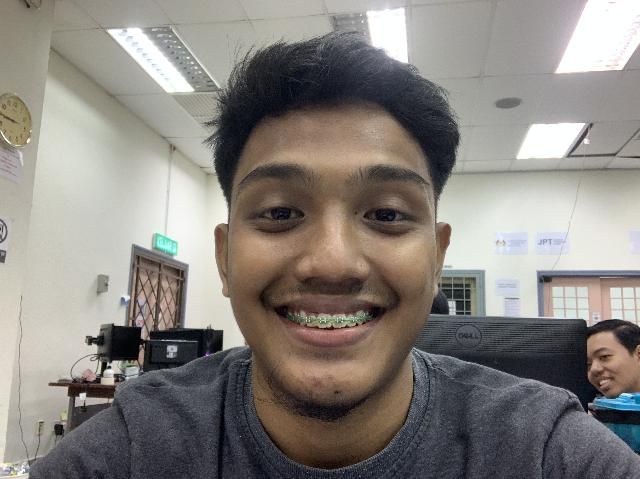senang: (225, 68, 436, 410)
